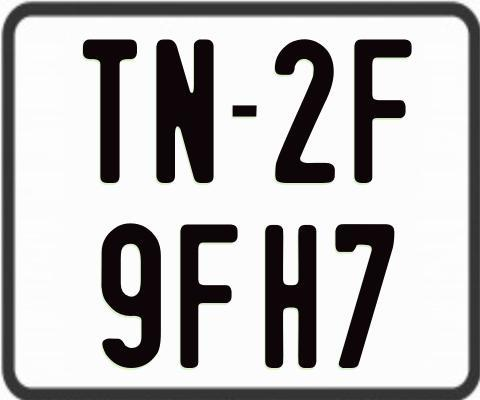2: (274, 38, 334, 184)
7: (335, 221, 400, 368)
9: (101, 220, 163, 370)
F: (353, 36, 415, 183), (179, 221, 242, 365)
H: (262, 223, 318, 371)
N: (155, 36, 213, 182)
T: (80, 36, 139, 182)
